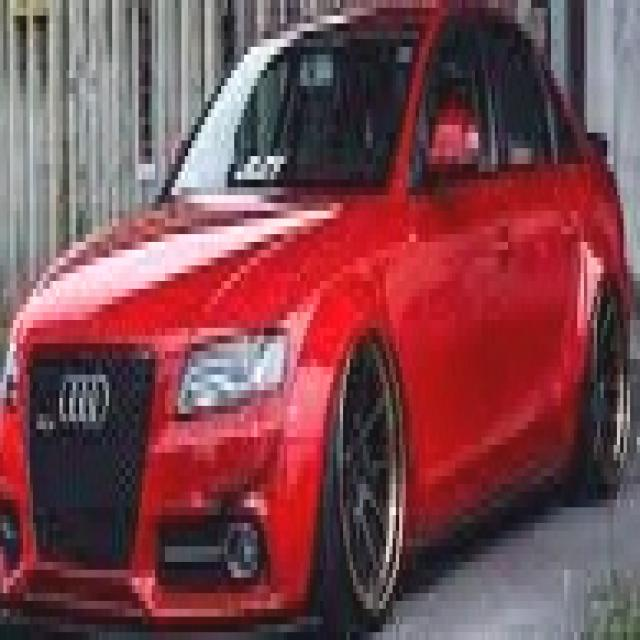red: (6, 4, 636, 612)
